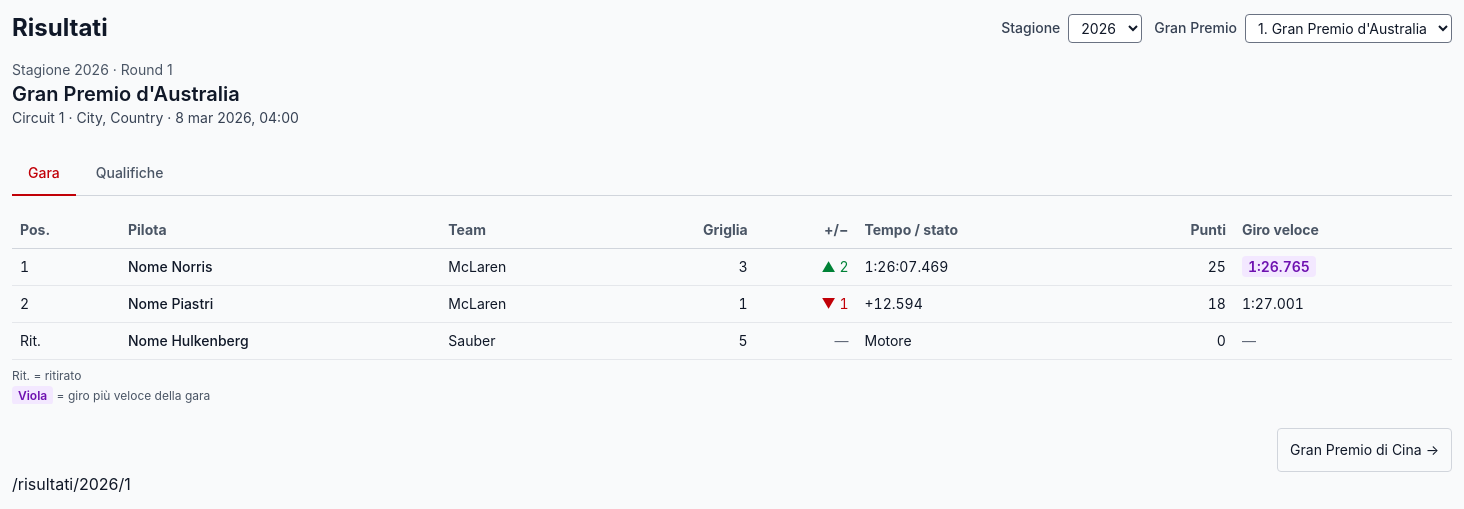
Test: ResultsPage › loads the qualifying only when its tab is opened
Check: the text "Nome Norris" is shown, box [120, 248, 440, 286]
Click the tab "Qualifiche" at [130, 174], box [80, 152, 180, 196]
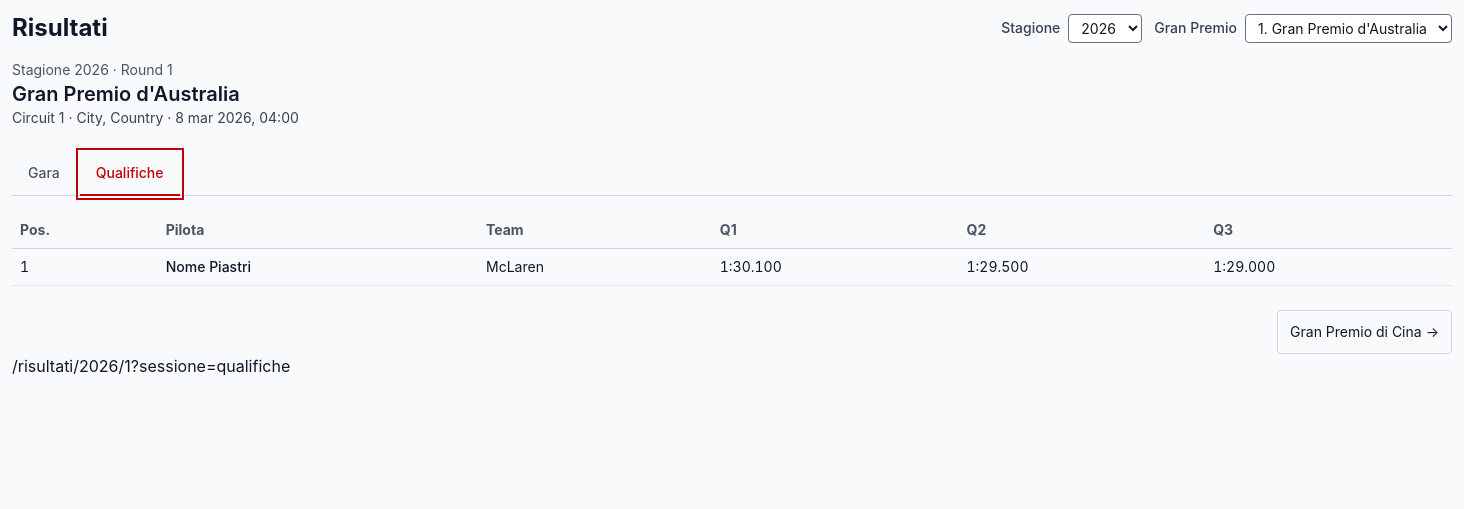
Check: the text "1:29.000" is shown, box [1205, 248, 1452, 286]
Check: the column heading "Q3" is shown, box [1205, 212, 1452, 248]
Check: the text with test id "location" reads "/risultati/2026/1?sessione=qualifiche", box [12, 356, 290, 376]
